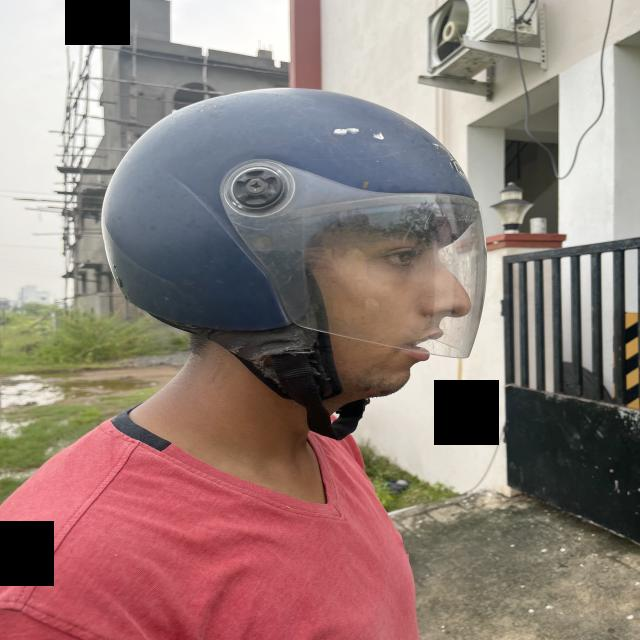Helmet: (102, 89, 485, 439)
